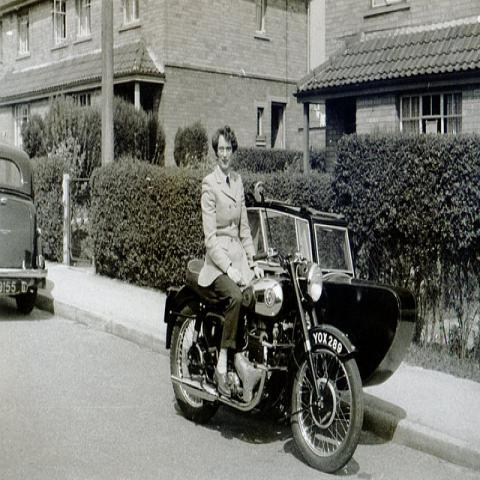car: (1, 140, 47, 314)
motorcycle: (159, 179, 369, 473)
